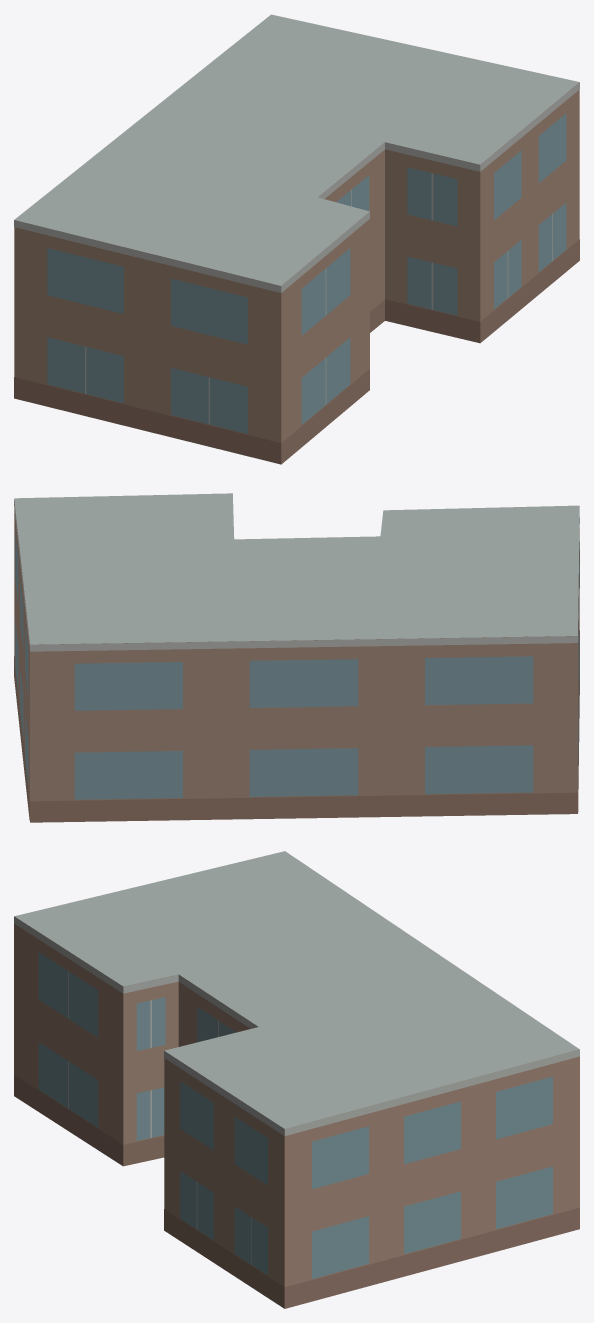
Rendered from survey-upis-33011922.glb.
3 views of the same model, one above another, from view 1: azimuth 30°, elevation 25°; view 2: azimuth 150°, elevation 25°; view 3: azimuth 270°, elevation 25° (orthographic).
Visible parts, largest first — view 1: survey-upis-33011922.tmp; view 2: survey-upis-33011922.tmp; view 3: survey-upis-33011922.tmp.
Boxes of the visible parts, x1,y1,x2,y2 form: survey-upis-33011922.tmp: (14, 14, 579, 464); survey-upis-33011922.tmp: (14, 493, 579, 822); survey-upis-33011922.tmp: (14, 851, 579, 1308).
Size of the model in its own units: 20.24 by 6.1 by 17.4.
